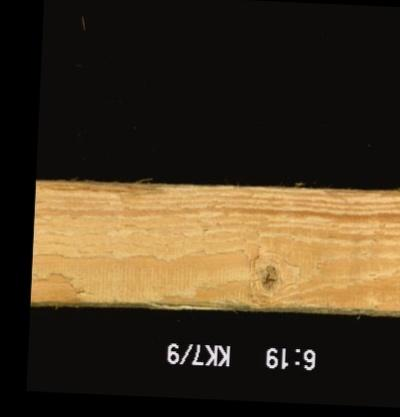sound_knot: (249, 252, 288, 300)
wave: (34, 180, 170, 198)
